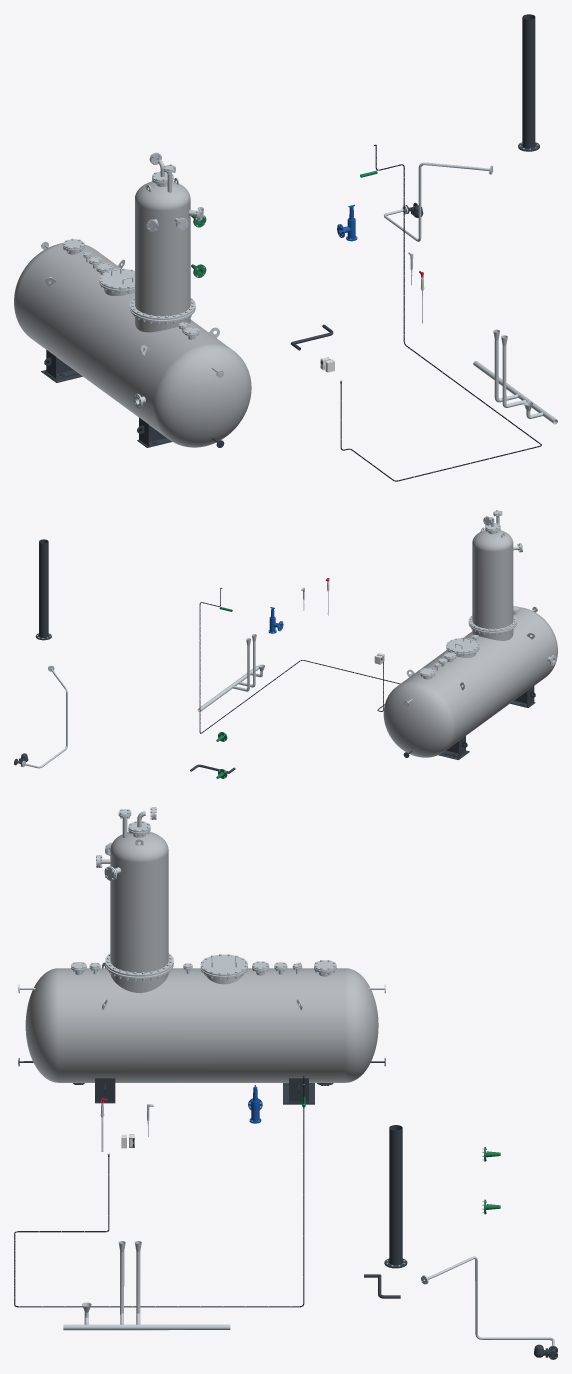
The model's file is s4000-1-BuzkEswl.glb.
3 views of the same model, one above another, from view 1: azimuth 30°, elevation 25°; view 2: azimuth 150°, elevation 25°; view 3: azimuth 270°, elevation 25° (orthographic). The views are drawn at different scales.
Visible parts, largest first — view 1: deaerator CAD solid 56, deaerator CAD solid 257, bdv_vent / dark, local_open_drains / steel, mod_eco_drive_cable / black, trap_gap_to_bdv / steel, deaerator CAD solid 408; view 2: deaerator CAD solid 56, deaerator CAD solid 257, bdv_vent / dark, local_open_drains / steel, mod_eco_drive_cable / black, deaerator CAD solid 408, trap_gap_to_bdv / steel; view 3: deaerator CAD solid 56, deaerator CAD solid 257, local_open_drains / steel, bdv_vent / dark, mod_eco_drive_cable / black, deaerator CAD solid 408, trap_gap_to_bdv / steel.
Boxes of the visible parts, box(x1,y1,x2,y2) form: deaerator CAD solid 56: box(14, 243, 251, 447); deaerator CAD solid 257: box(135, 181, 190, 316); bdv_vent / dark: box(518, 14, 539, 151); local_open_drains / steel: box(473, 329, 557, 424); mod_eco_drive_cable / black: box(340, 144, 541, 481); trap_gap_to_bdv / steel: box(384, 162, 493, 241); deaerator CAD solid 408: box(99, 269, 134, 289); deaerator CAD solid 56: box(383, 607, 557, 757); deaerator CAD solid 257: box(472, 530, 513, 629); bdv_vent / dark: box(35, 539, 51, 640); local_open_drains / steel: box(197, 634, 264, 711); mod_eco_drive_cable / black: box(199, 588, 400, 733); deaerator CAD solid 408: box(446, 638, 479, 653); trap_gap_to_bdv / steel: box(21, 665, 67, 768); deaerator CAD solid 56: box(25, 968, 378, 1082); deaerator CAD solid 257: box(110, 832, 168, 972); local_open_drains / steel: box(63, 1241, 230, 1330); bdv_vent / dark: box(384, 1125, 407, 1268); mod_eco_drive_cable / black: box(14, 1076, 304, 1307); deaerator CAD solid 408: box(200, 954, 247, 975); trap_gap_to_bdv / steel: box(421, 1256, 557, 1348).
Bounding box in the file's own units: 8.25 × 4.72 × 6.74.
